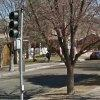Traffic light: (6, 5, 31, 53)
